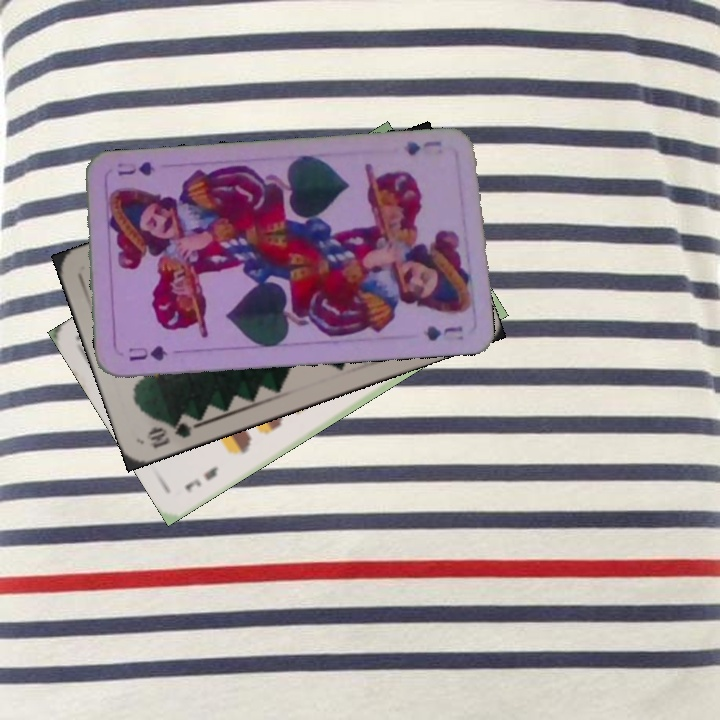E7: (181, 462, 221, 495)
G10: (142, 411, 201, 451)
GU: (124, 340, 170, 363), (400, 137, 444, 158)
